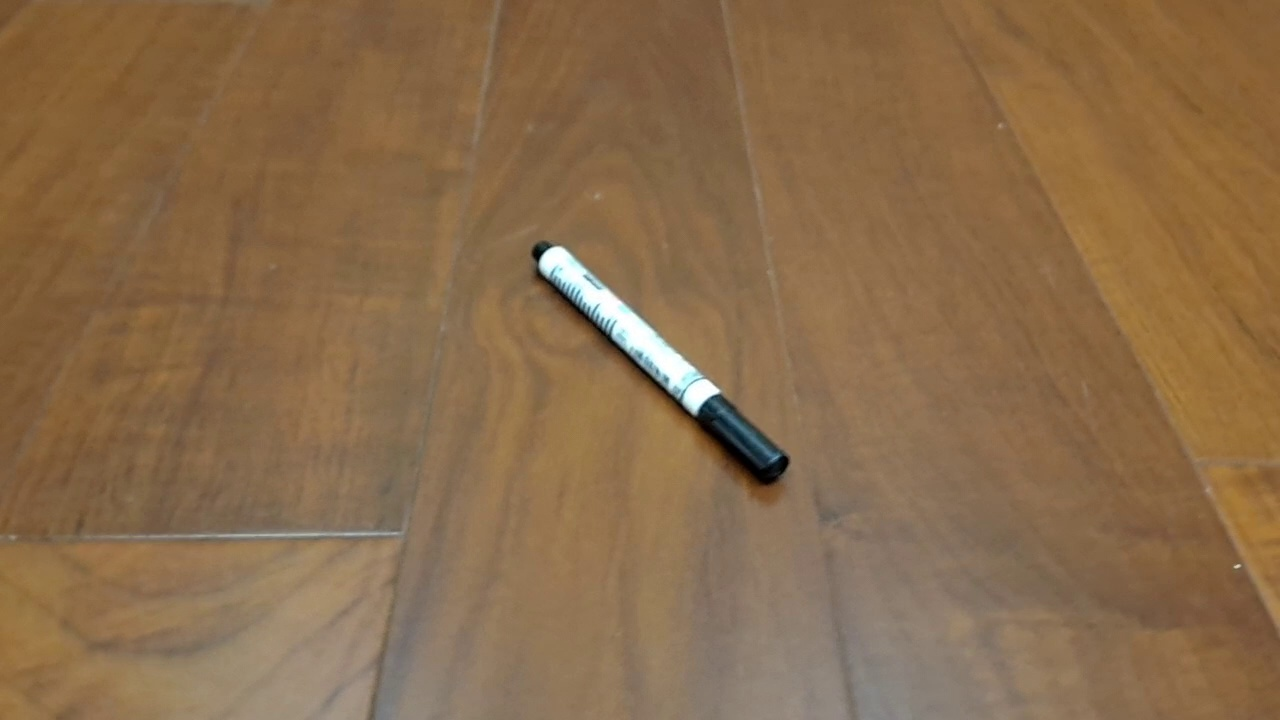pen: (530, 238, 790, 485)
